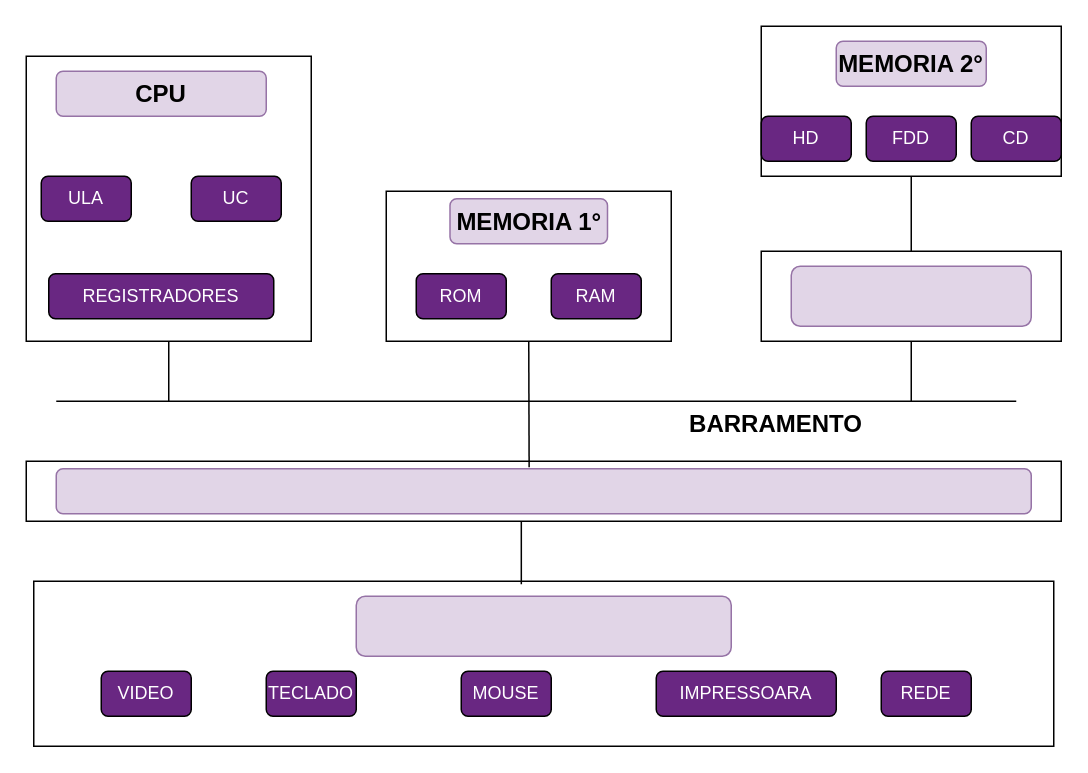
The diagram is 1088 pixels wide and 773 high, and some of its shapes have lost their labels. Here are the shapes that lost their labels. From the top down, the centre of each, then its label:
At point 910,295: "CONTROLADORES DE DISCOS".
At point 543,490: "CONTROLADORES DE DISPOSITIVO ENTRADA/SAÍDA".
At point 543,625: "DISPOSITIVO DE ENTRADA / SAIDA".
